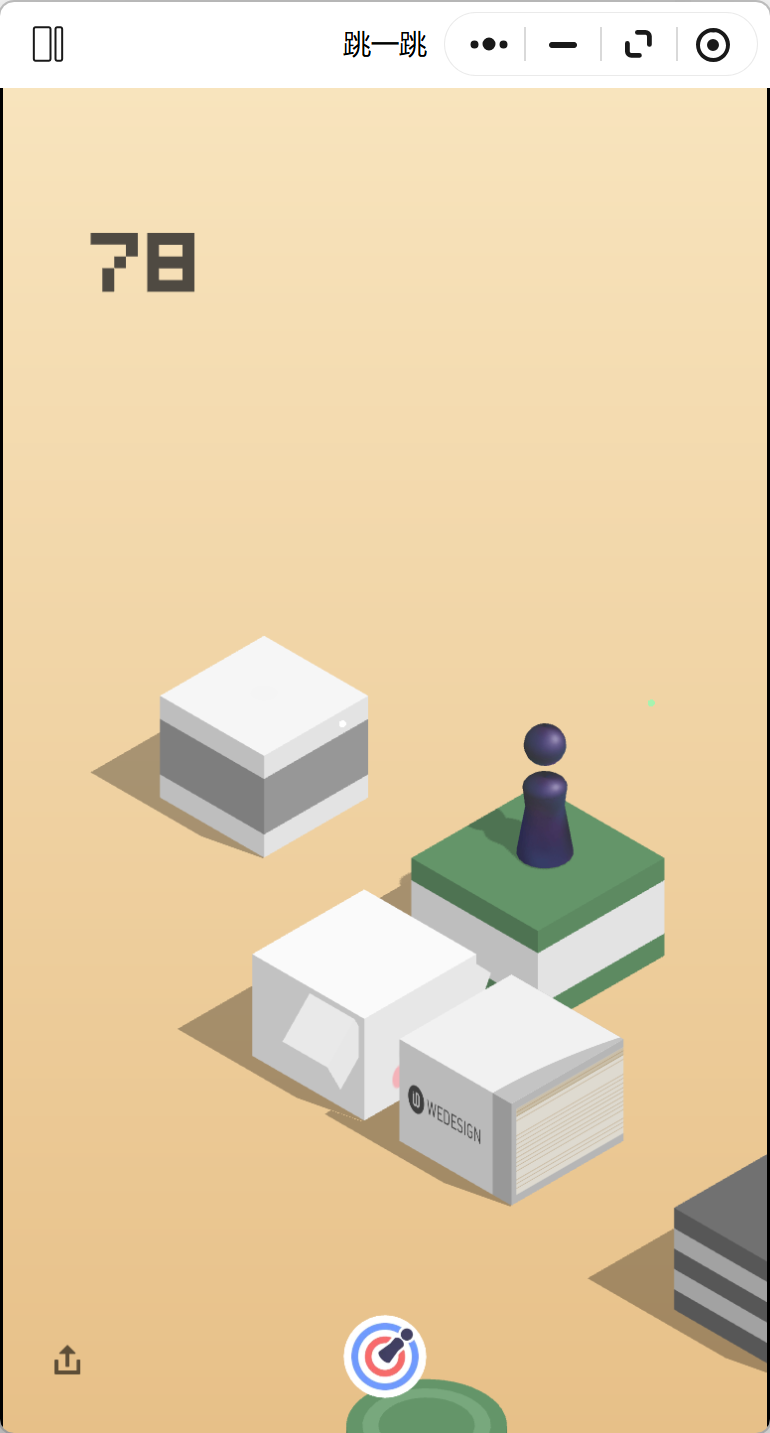piece: (516, 720, 577, 870)
platform: (158, 635, 373, 857)
